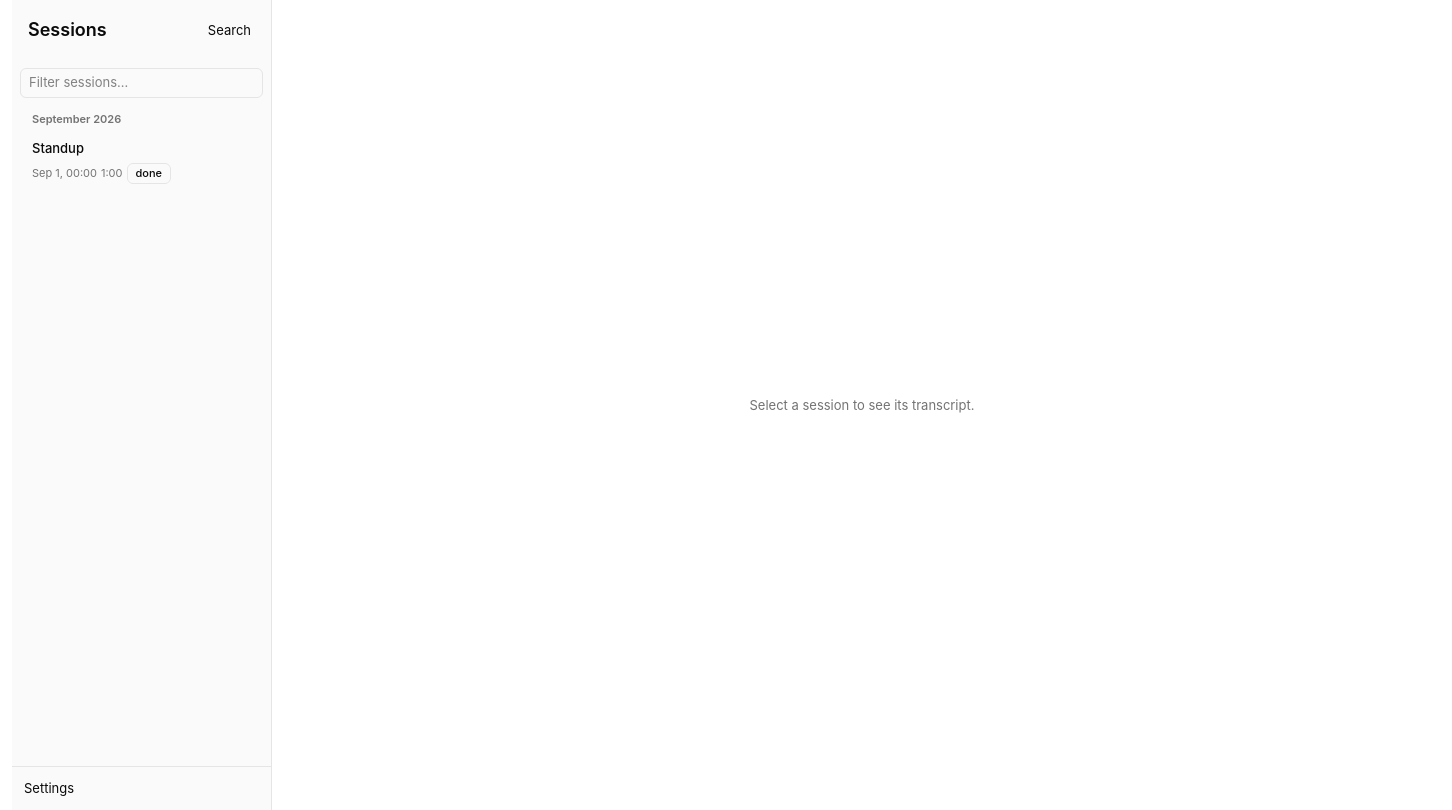
Test case: Sessions › renders the sidebar heading and switches to a session's transcript on selection
expect the heading "Sessions" is shown: met, box x1=28 y1=16 x2=107 y2=44
Click the button "Standup Sep 1, 00:00 1:00 done" at (142, 162), box x1=20 y1=134 x2=263 y2=190
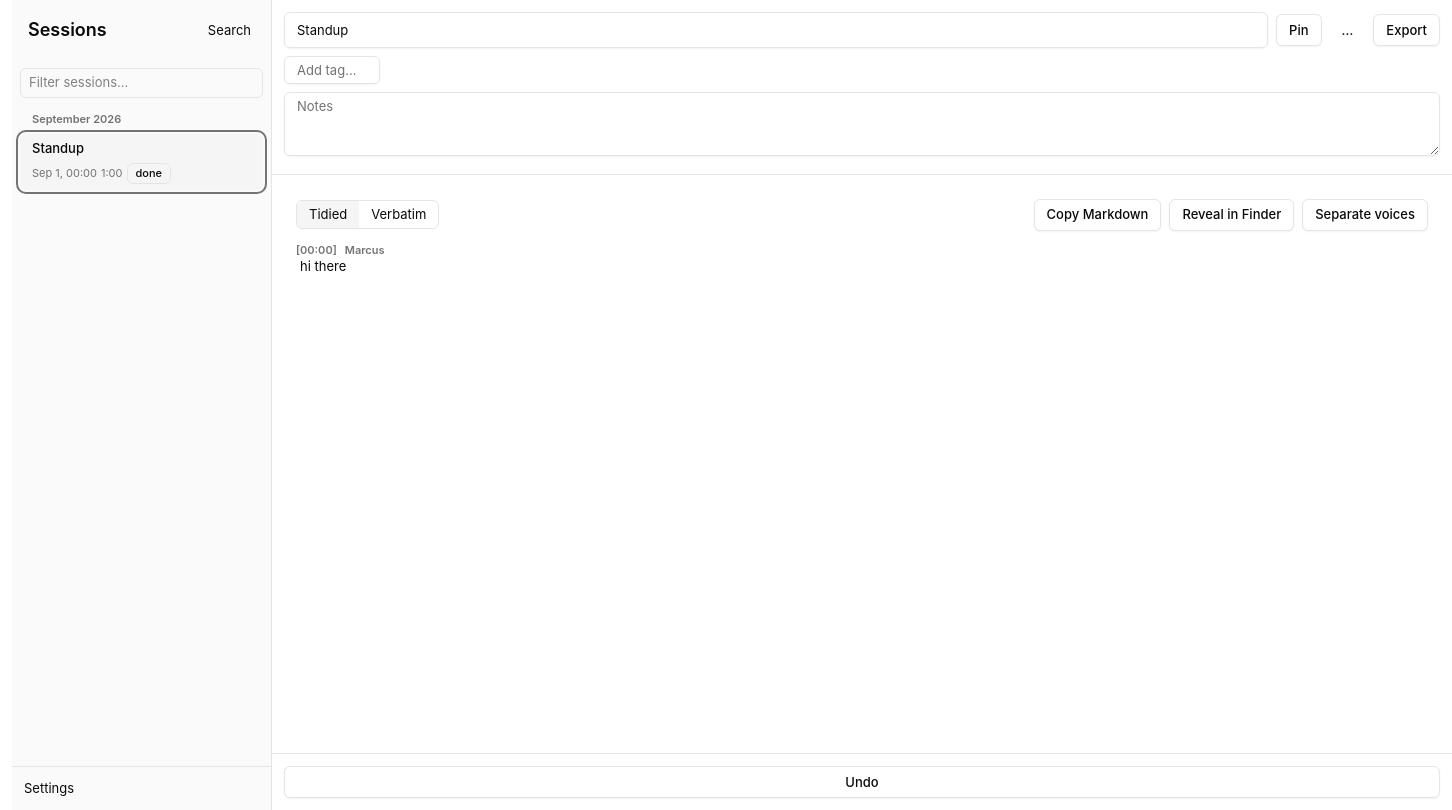
expect the text "hi there" is shown: met, box x1=300 y1=258 x2=346 y2=274
